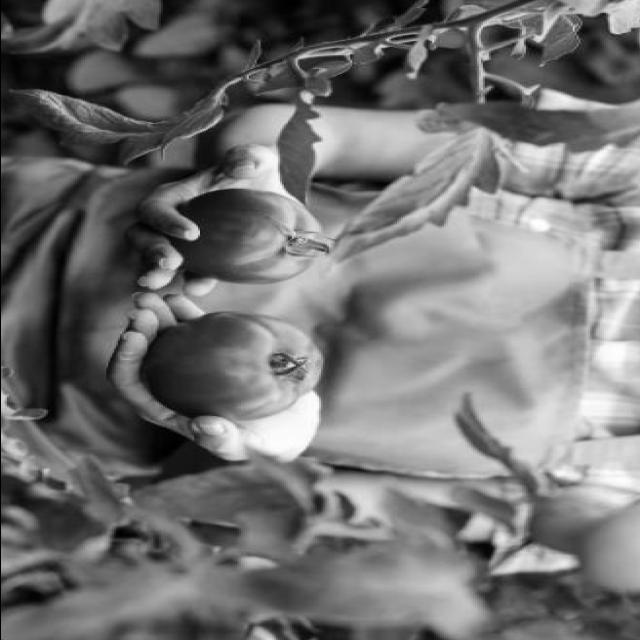Healthy: (142, 178, 340, 286), (162, 310, 318, 424)
